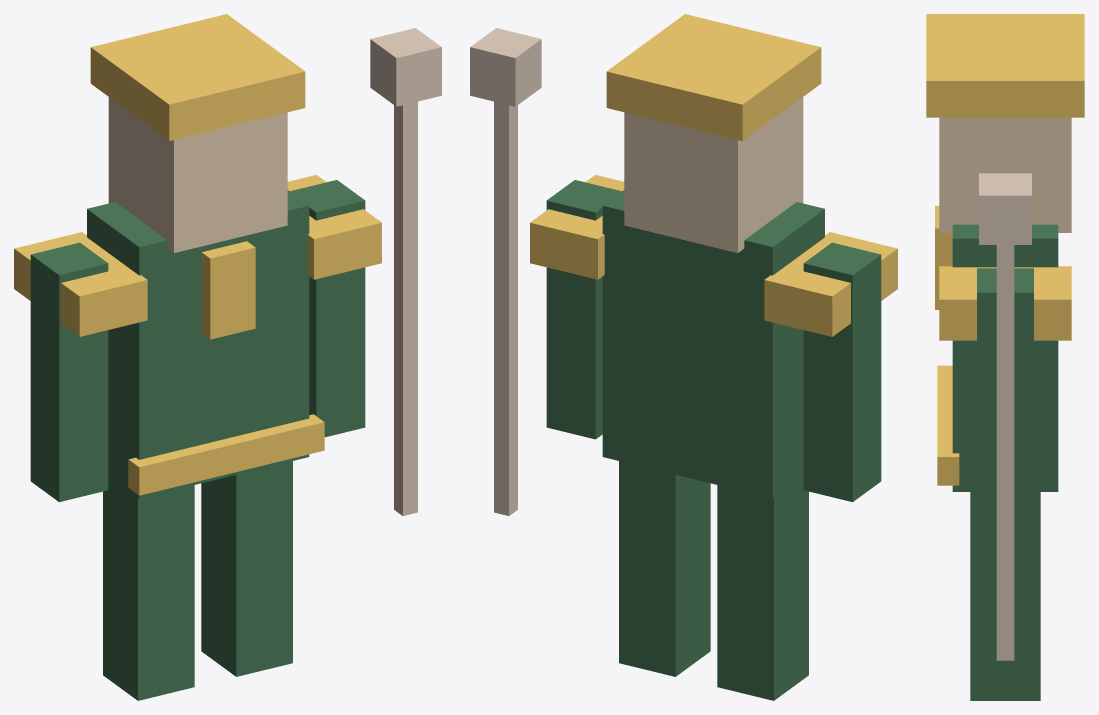
The model's file is 03_pax_skyharrow_medic_under_mycelial.glb.
3 renders of one model, left to right at view 1: azimuth 30°, elevation 25°; view 2: azimuth 150°, elevation 25°; view 3: azimuth 270°, elevation 25°, orthographic.
Visible parts, largest first — view 1: Pax Skyharrow, Medic under Mycelial; view 2: Pax Skyharrow, Medic under Mycelial; view 3: Pax Skyharrow, Medic under Mycelial.
Boxes of the visible parts, box(x1,y1,x2,y2) form: Pax Skyharrow, Medic under Mycelial: box(14, 14, 441, 700); Pax Skyharrow, Medic under Mycelial: box(470, 14, 897, 700); Pax Skyharrow, Medic under Mycelial: box(926, 14, 1084, 700).
Size of the model in its own units: 1.03 by 1.57 by 0.3661.
